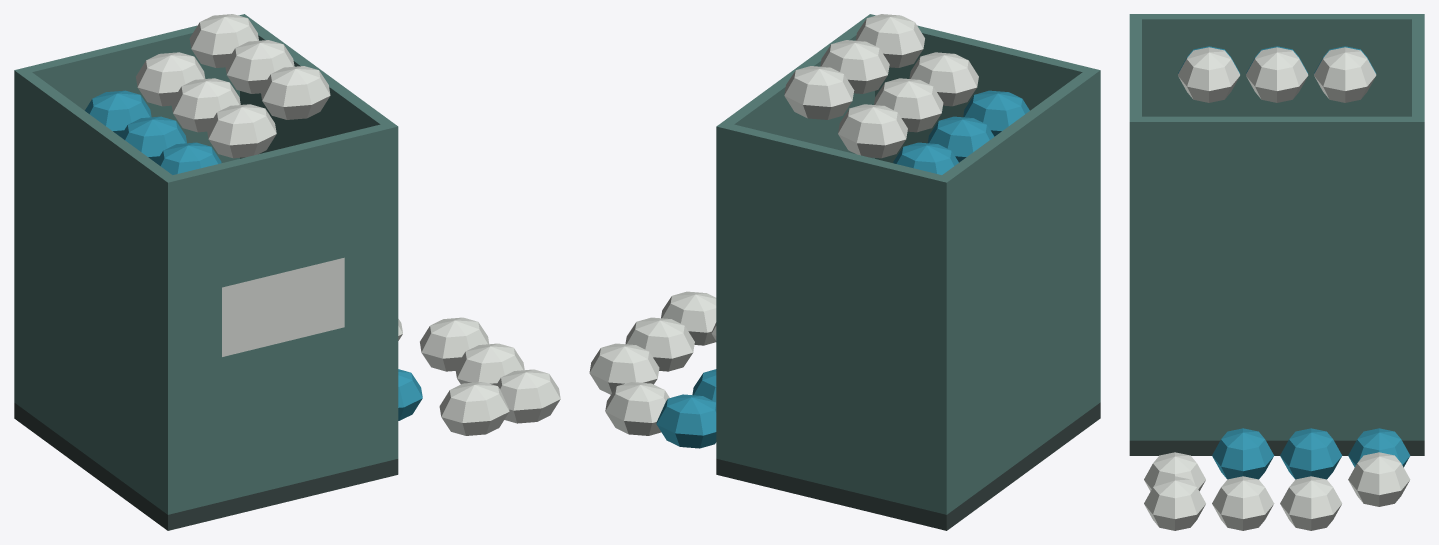
Rendered from CLN_BIN_SPILL_01.fbx.
The picture shows the model from 3 angles, left to right: view 1: azimuth 30°, elevation 25°; view 2: azimuth 150°, elevation 25°; view 3: azimuth 270°, elevation 25°; orthographic projection. The views are drawn at different scales.
Visible parts, largest first — view 1: CLN_BIN_SPILL_01; view 2: CLN_BIN_SPILL_01; view 3: CLN_BIN_SPILL_01.
Boxes of the visible parts, bbox=[...] form: CLN_BIN_SPILL_01: bbox=[14, 14, 560, 530]; CLN_BIN_SPILL_01: bbox=[589, 14, 1100, 530]; CLN_BIN_SPILL_01: bbox=[1129, 14, 1424, 530].
Bounding box in the file's own units: 81 × 72.9 × 52.05.
